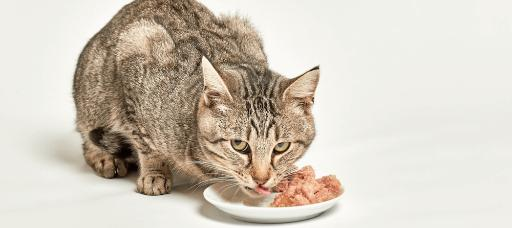cat_eating: (73, 0, 344, 223)
